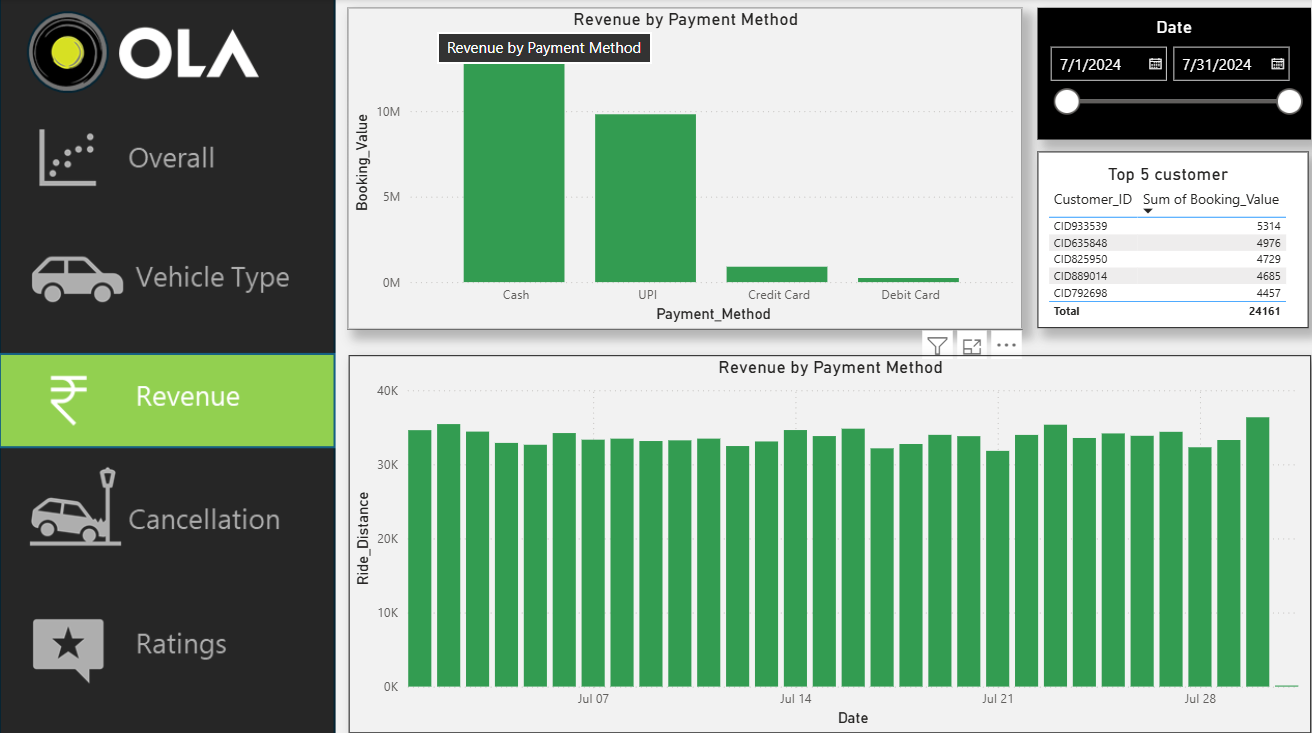

What the dashboard file says about the page in this screenshot:
{"tool":"powerbi","page":{"name":"Revenue","canvas":[1280,720],"ordinal":2},"visuals":[{"type":"actionButton","box":[0,217.2,323.3,89.3],"z":0},{"type":"actionButton","box":[0,117,323.3,91.7],"z":1000},{"type":"actionButton","box":[0,462.1,323.3,90.5],"z":2000},{"type":"actionButton","box":[0,587.5,323.3,90.5],"z":3000},{"type":"columnChart","title":"Revenue by Payment Method","fields":{"Category":["July.Payment_Method"],"Y":["Sum(July.Booking_Value)"]},"box":[335.7,8.6,651.4,310],"z":4000},{"type":"columnChart","title":"Revenue by Payment Method","fields":{"Y":["Sum(July.Ride_Distance)"],"Category":["July.Date"]},"box":[336.2,343.8,928.8,365],"z":5000},{"type":"slicer","title":"Date","fields":{"Values":["July.Date"]},"box":[1001.4,8.6,264.3,127.1],"z":6000},{"type":"tableEx","title":"Top 5 customer","fields":{"Values":["July.Customer_ID","Sum(July.Booking_Value)"]},"box":[1001.4,147.1,261.4,170],"z":7000}]}

Visuals, with their boxes on the page's 1280x720 design canvas (x1, y1, x2, y2). These are canvas units, not pixel positions in the 1312x733 screenshot, which may show the page scaled, cropped or inside an application window:
actionButton: {"x1": 0, "y1": 217, "x2": 323, "y2": 306}
actionButton: {"x1": 0, "y1": 117, "x2": 323, "y2": 209}
actionButton: {"x1": 0, "y1": 462, "x2": 323, "y2": 553}
actionButton: {"x1": 0, "y1": 588, "x2": 323, "y2": 678}
"Revenue by Payment Method" columnChart: {"x1": 336, "y1": 9, "x2": 987, "y2": 319}
"Revenue by Payment Method" columnChart: {"x1": 336, "y1": 344, "x2": 1265, "y2": 709}
"Date" slicer: {"x1": 1001, "y1": 9, "x2": 1266, "y2": 136}
"Top 5 customer" tableEx: {"x1": 1001, "y1": 147, "x2": 1263, "y2": 317}
